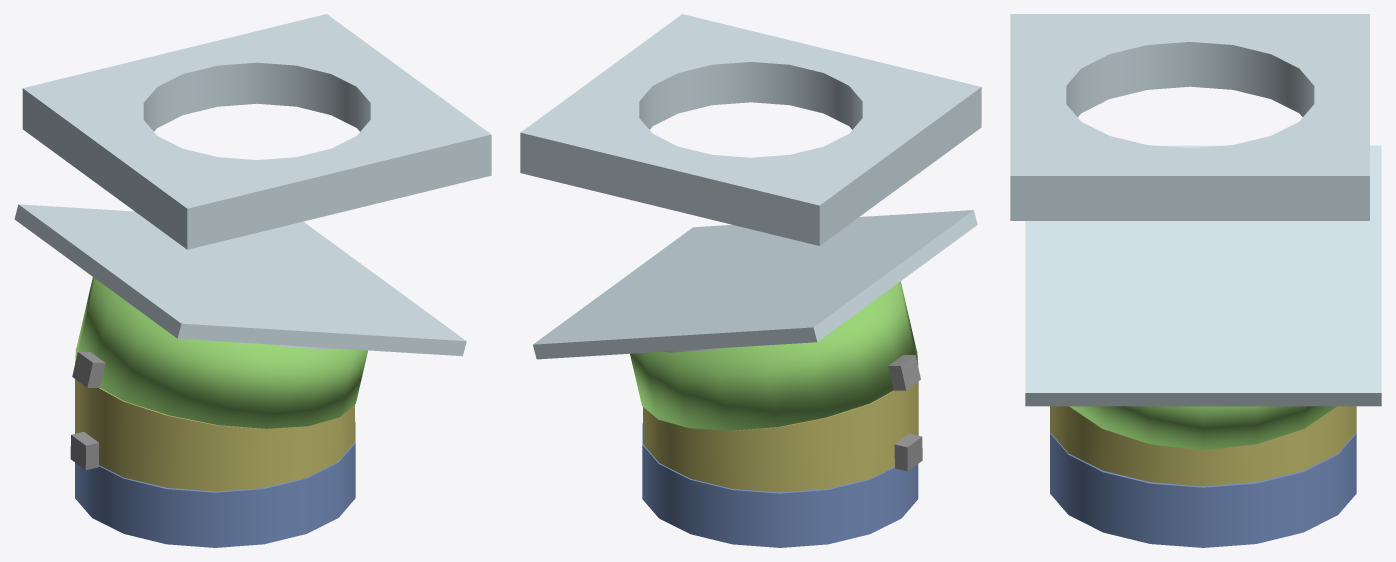
Rendered from result.gltf.
3 renders of one model, left to right at view 1: azimuth 30°, elevation 25°; view 2: azimuth 150°, elevation 25°; view 3: azimuth 270°, elevation 25°, orthographic. The views are drawn at different scales.
Parts seen in each view (by area): view 1: Box002, Box001, Cylinder003, Cylinder002, Cylinder001, Box003, Box004; view 2: Box002, Box001, Cylinder003, Cylinder002, Cylinder001, Box003, Box004; view 3: Box001, Box002, Cylinder001, Cylinder002, Cylinder003.
Part boxes in pixels (x1,y1,x2,y2): Box002: (22,14,491,249); Box001: (14,204,466,356); Cylinder003: (75,277,367,428); Cylinder002: (75,348,354,491); Cylinder001: (75,421,355,547); Box003: (72,351,105,387); Box004: (70,432,98,469); Box002: (520,14,981,245); Box001: (533,210,977,359); Cylinder003: (630,281,917,430); Cylinder002: (643,351,918,492); Cylinder001: (642,423,918,547); Box003: (888,355,920,390); Box004: (894,433,922,471); Box001: (1025,145,1381,406); Box002: (1010,14,1369,220); Cylinder001: (1050,432,1356,547); Cylinder002: (1050,406,1356,486); Cylinder003: (1069,406,1336,450).
Bounding box in the file's own units: 4.82 × 5.28 × 4.37.
